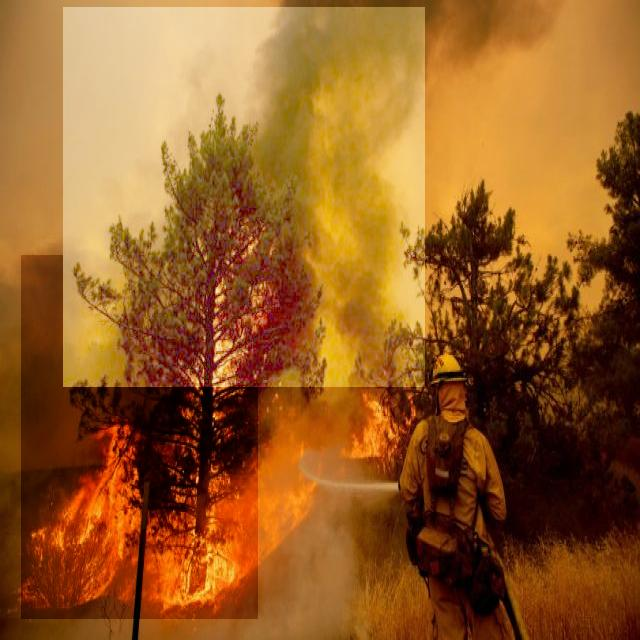Fire: (21, 255, 258, 619), (271, 396, 412, 554)
Smoke: (63, 8, 425, 388)
